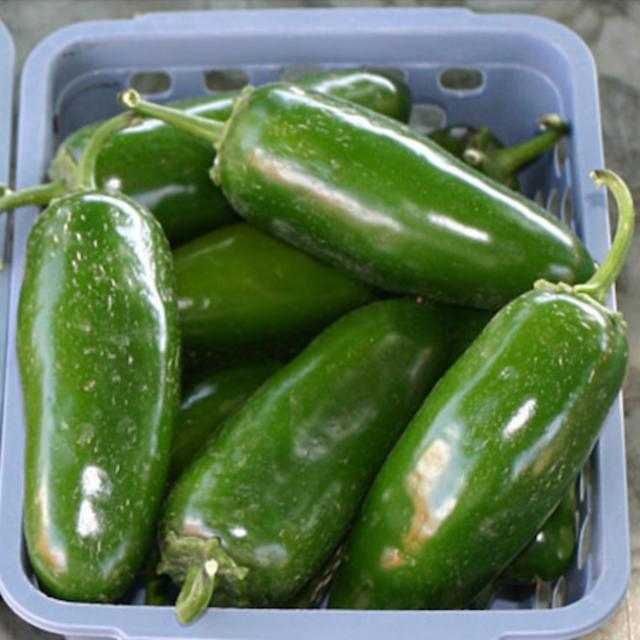aji: (39, 97, 576, 589)
